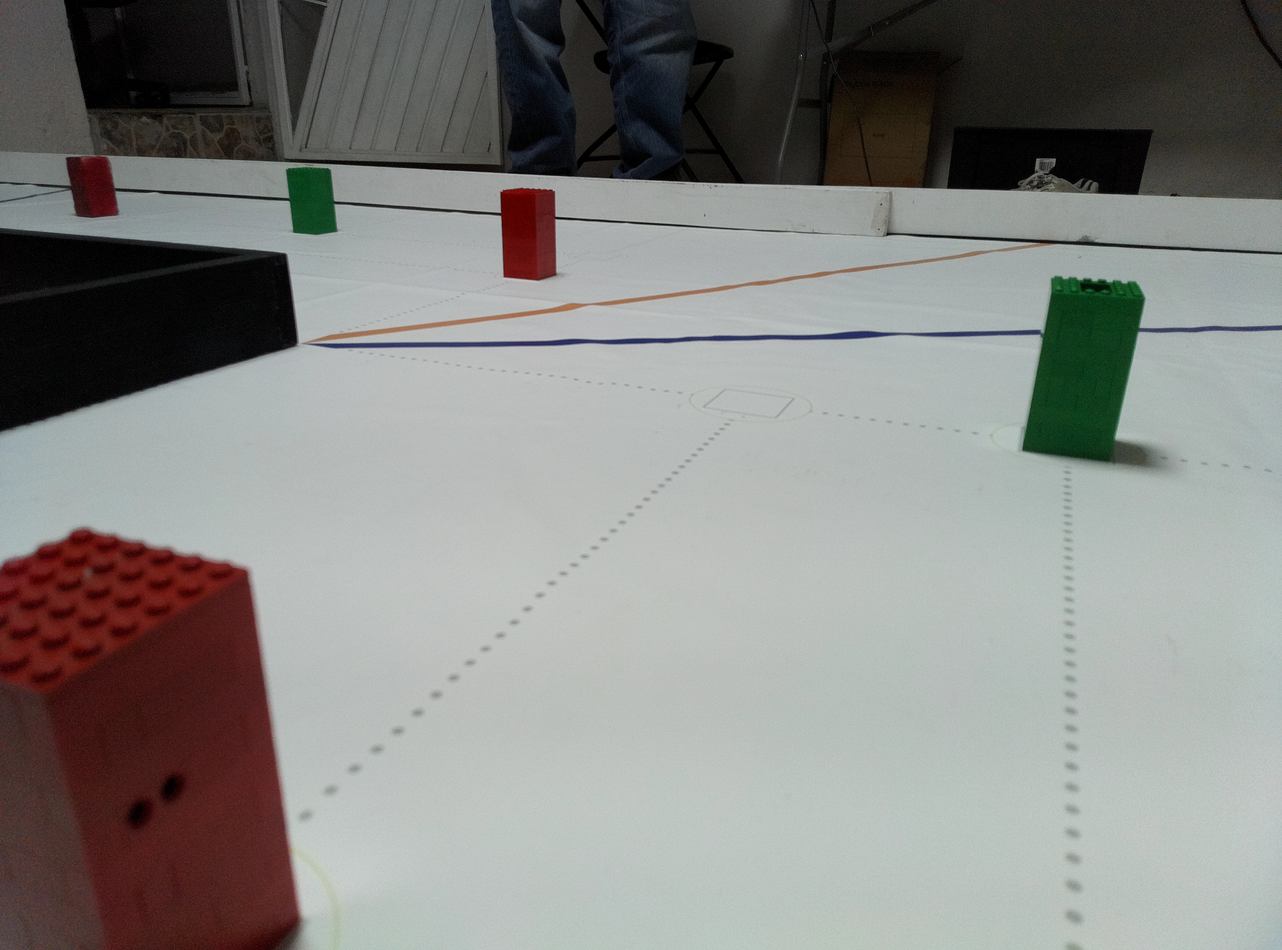greenbox: (1020, 276, 1148, 463), (284, 165, 340, 238)
redbox: (0, 525, 309, 948), (499, 188, 555, 282), (67, 154, 117, 213)
